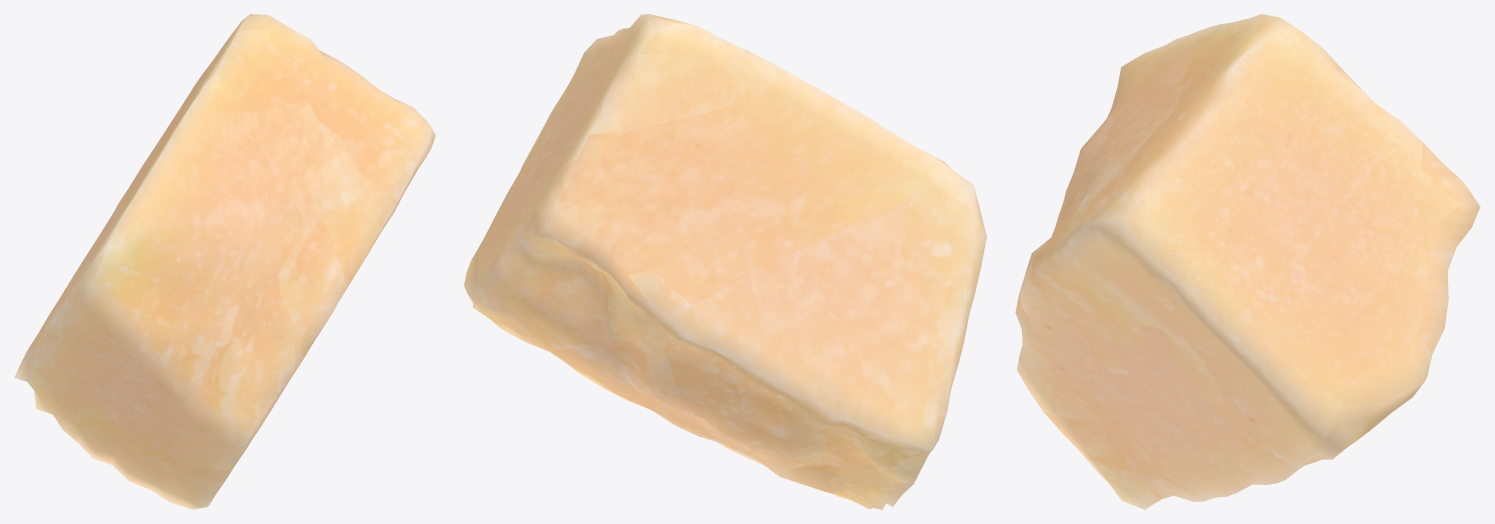
File: parmesan.glb
3 renders of one model, left to right at view 1: azimuth 30°, elevation 25°; view 2: azimuth 150°, elevation 25°; view 3: azimuth 270°, elevation 25°, orthographic. The views are drawn at different scales.
Parts seen in each view (by area): view 1: texturedMesh_0; view 2: texturedMesh_0; view 3: texturedMesh_0.
Part boxes in pixels (bbox=[...]): texturedMesh_0: bbox=[14, 14, 435, 509]; texturedMesh_0: bbox=[464, 14, 986, 509]; texturedMesh_0: bbox=[1015, 14, 1480, 509].
Size of the model in its own units: 0.3554 by 0.3735 by 0.2851.
Materials: 1 (1 with a texture image).
